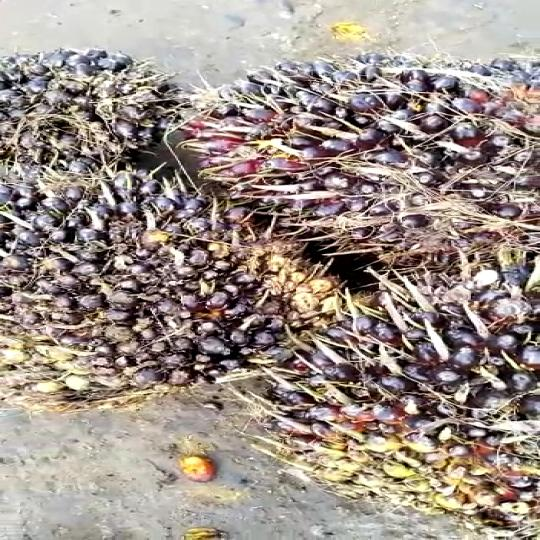mentah: (199, 254, 535, 539), (0, 154, 365, 409), (191, 43, 540, 269), (0, 48, 191, 170)
